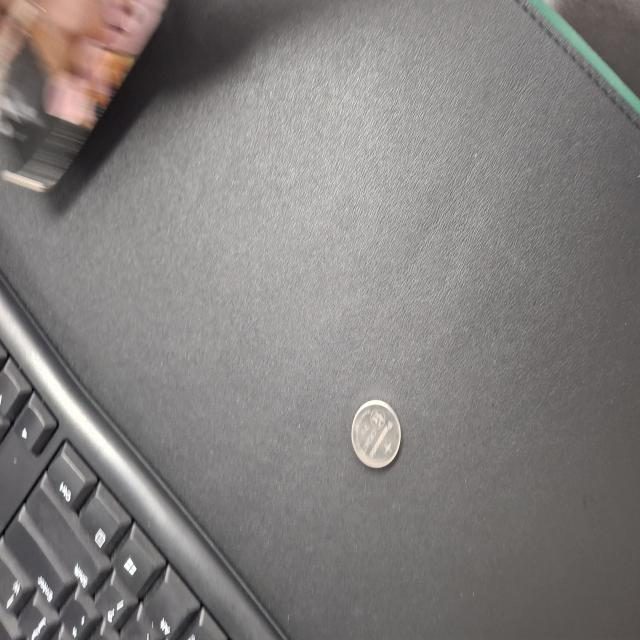COIN: (129, 470, 179, 534)
